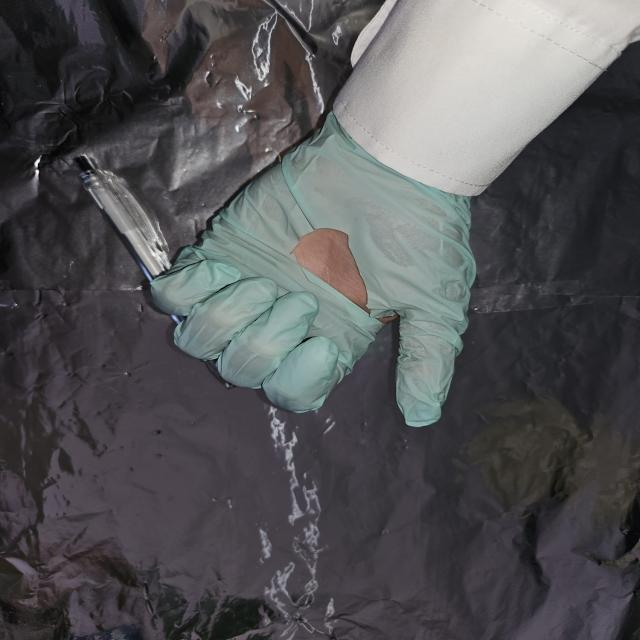gloves_damaged: (145, 106, 474, 428)
